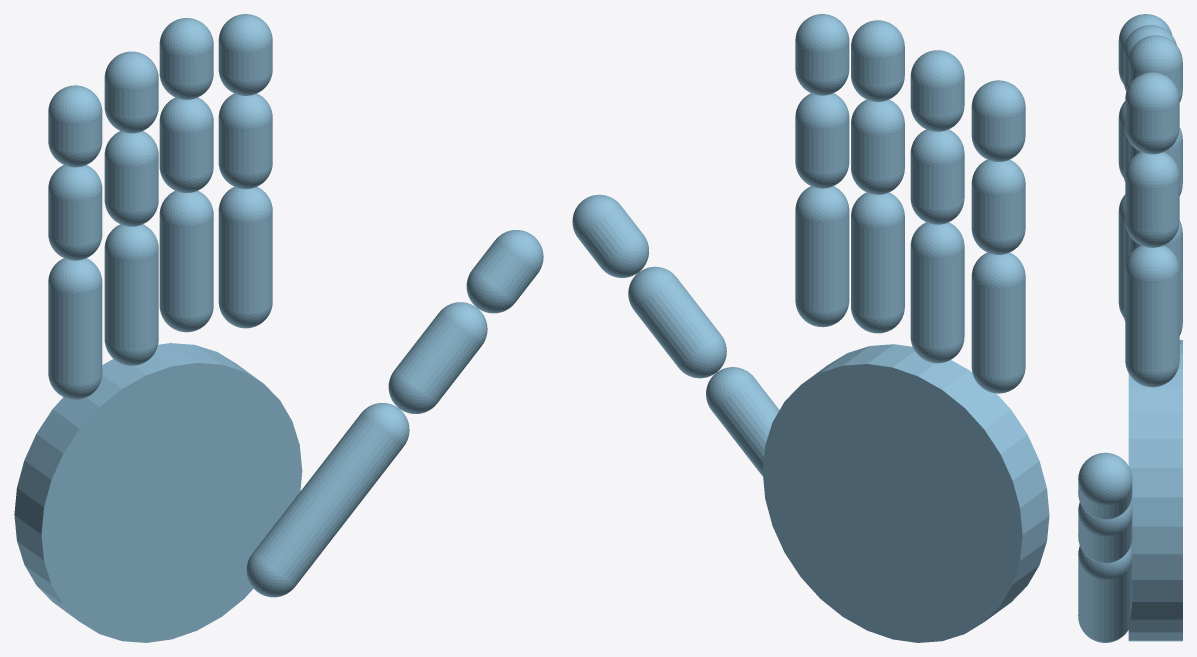
Rendered from sharpa_wave_right_canonical.glb.
The picture shows the model from 3 angles, left to right: view 1: azimuth 30°, elevation 25°; view 2: azimuth 150°, elevation 25°; view 3: azimuth 270°, elevation 25°; orthographic projection.
Visible parts, largest first — view 1: world; view 2: world; view 3: world.
Part boxes in pixels (x1,y1,x2,y2): world: [14, 14, 543, 642]; world: [572, 14, 1049, 642]; world: [1078, 14, 1182, 642].
Bounding box in the file's own units: 0.1721 × 0.2034 × 0.032.
